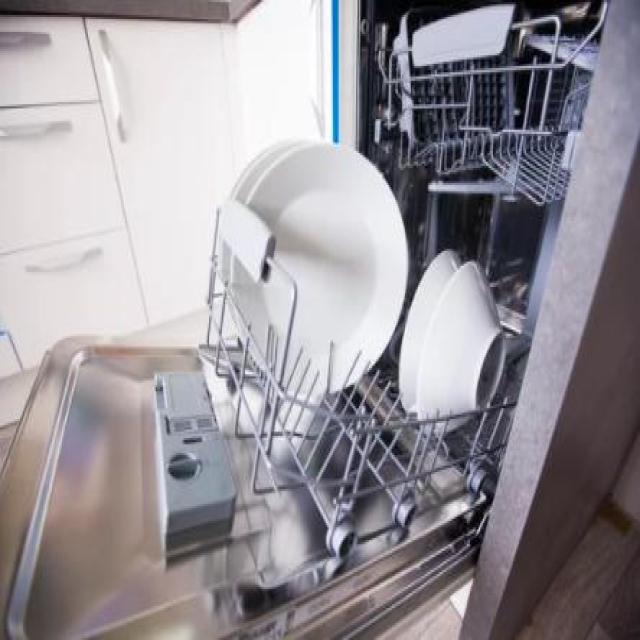dishwasher: (0, 0, 610, 638)
